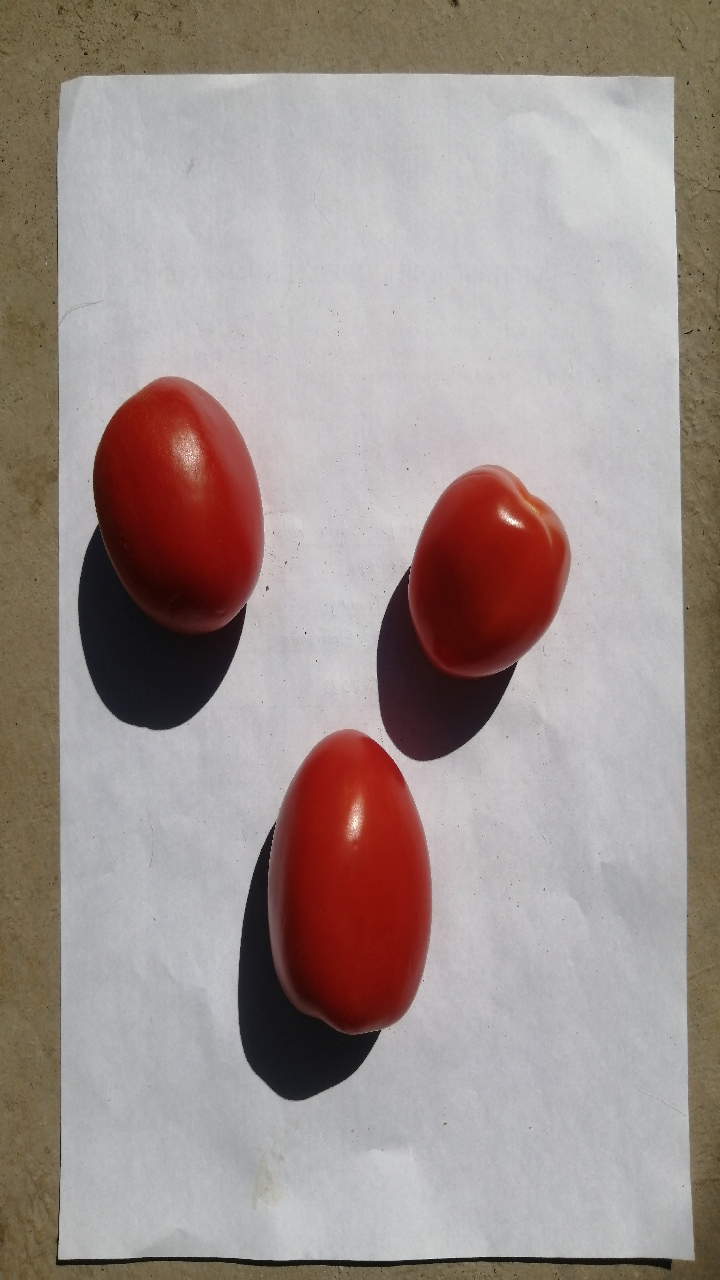tomateRojo: (66, 342, 295, 668), (243, 709, 443, 1052), (360, 440, 580, 714)
